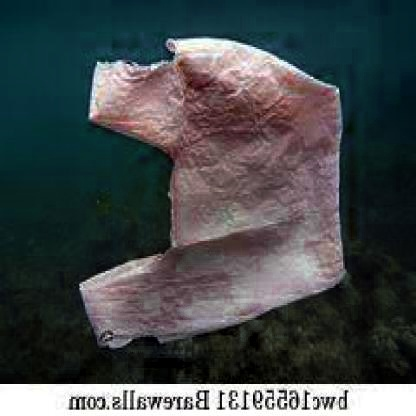pbag: (78, 34, 347, 350)
